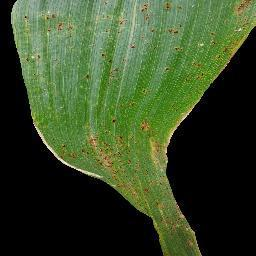Corn_Common_Rust: (32, 118, 226, 256), (9, 0, 86, 66), (100, 0, 140, 75), (198, 1, 256, 52), (163, 48, 231, 84), (142, 0, 186, 43), (174, 100, 201, 118), (75, 73, 103, 86), (125, 96, 148, 111), (141, 84, 155, 97)
